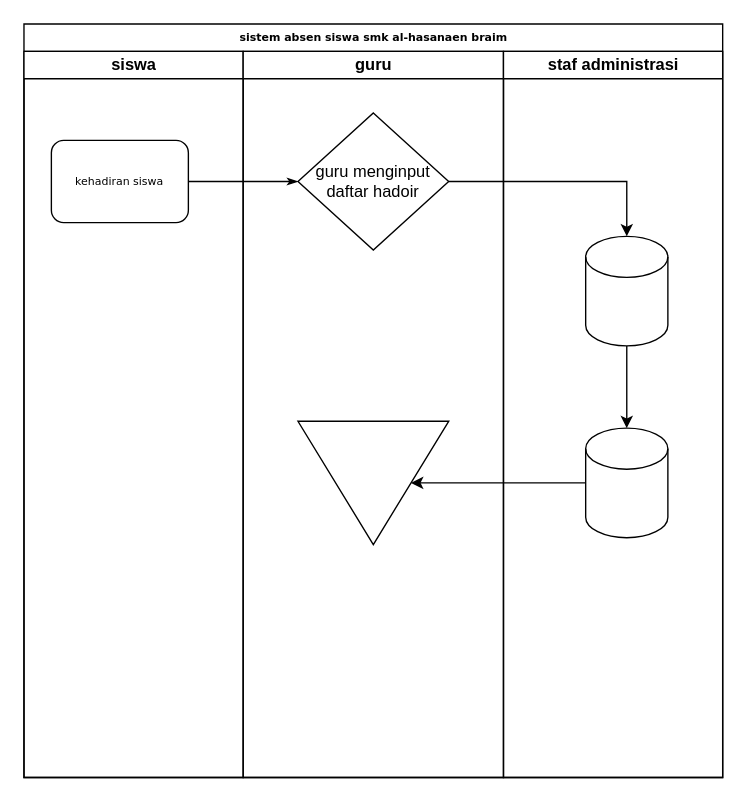
Some shapes in this 747 by 801 pixel diagram are drawn without their labels. The shapes that lost their labels are listed below. From the top down, each one's centre as x and y in pixels, then its label:
the point at 626,290: data kehadir siswa
the point at 373,482: nilai yg telah direkap
the point at 626,482: rekapan kehadiran
